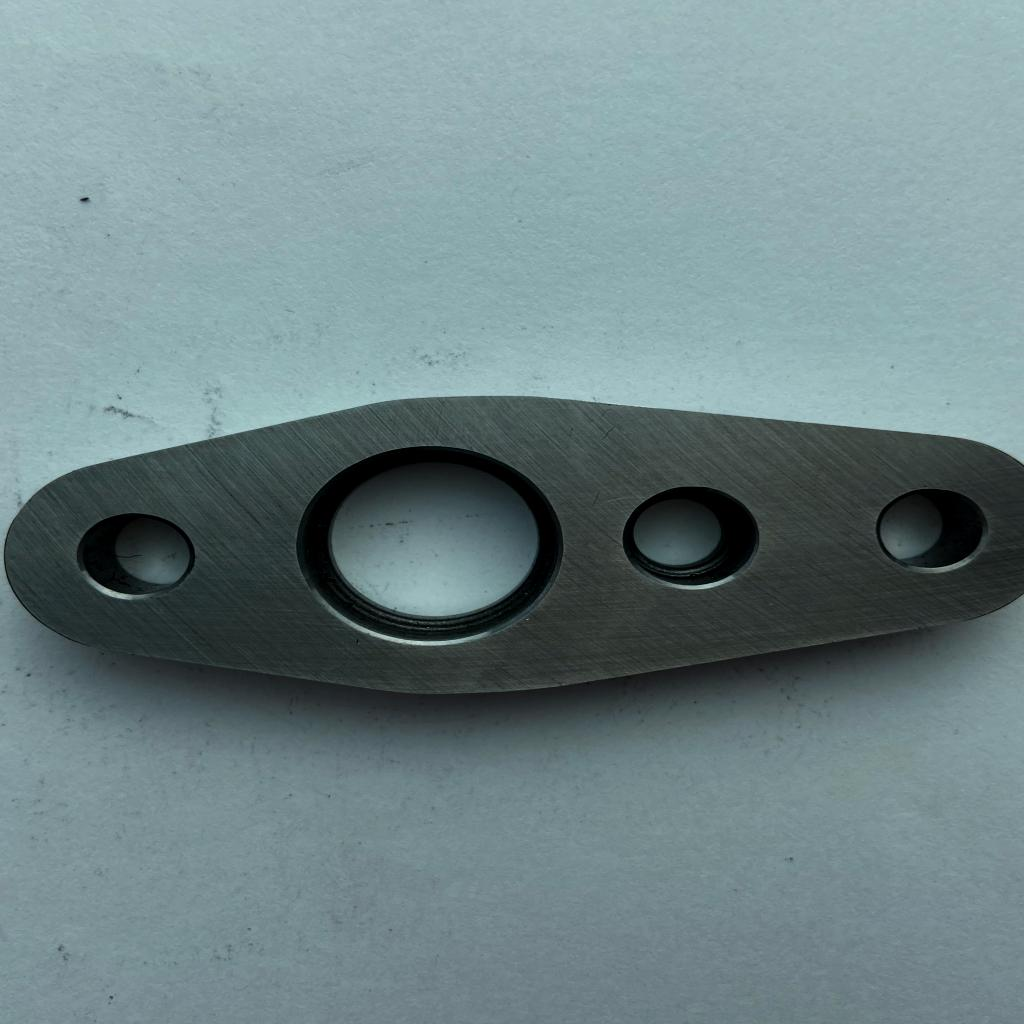lines: (589, 486, 605, 510), (598, 423, 616, 441)
